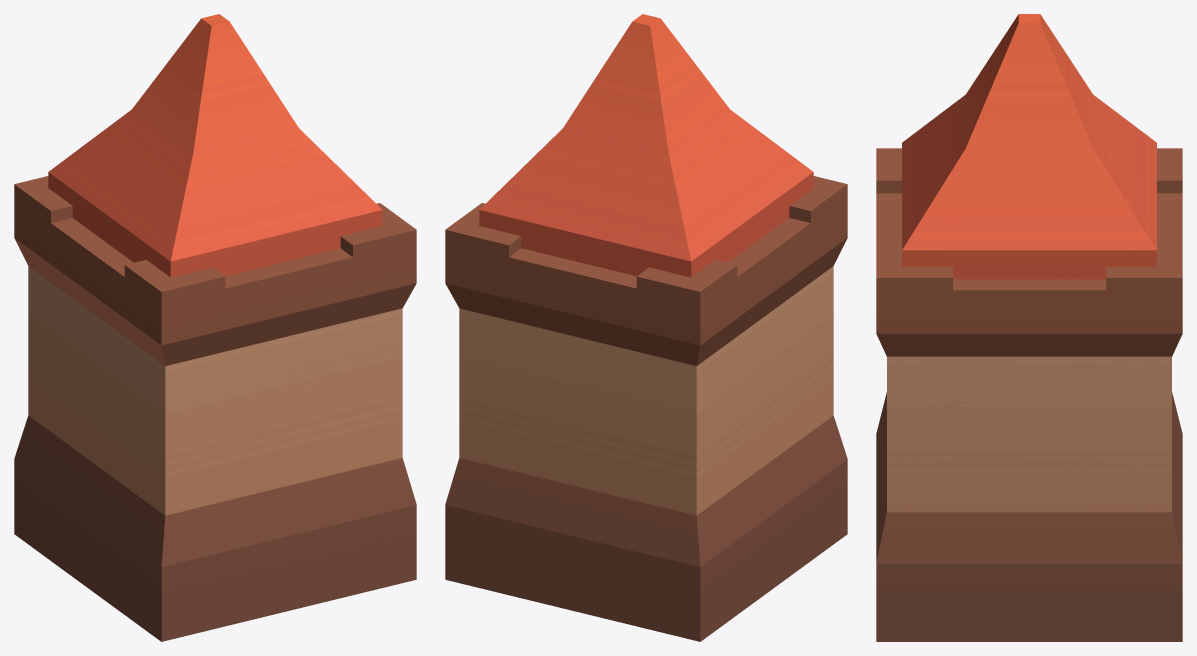
Rendered from tower-square-roof.glb.
The picture shows the model from 3 angles, left to right: view 1: azimuth 30°, elevation 25°; view 2: azimuth 150°, elevation 25°; view 3: azimuth 270°, elevation 25°; orthographic projection. The views are drawn at different scales.
Visible parts, largest first — view 1: tower-square-roof; view 2: tower-square-roof; view 3: tower-square-roof.
Part boxes in pixels (x1=…): tower-square-roof: x1=14, y1=14, x2=416, y2=641; tower-square-roof: x1=445, y1=14, x2=847, y2=641; tower-square-roof: x1=876, y1=14, x2=1182, y2=641.
Bounding box in the file's own units: 3 × 6.03 × 3.
Materials: 1 (1 with a texture image).
